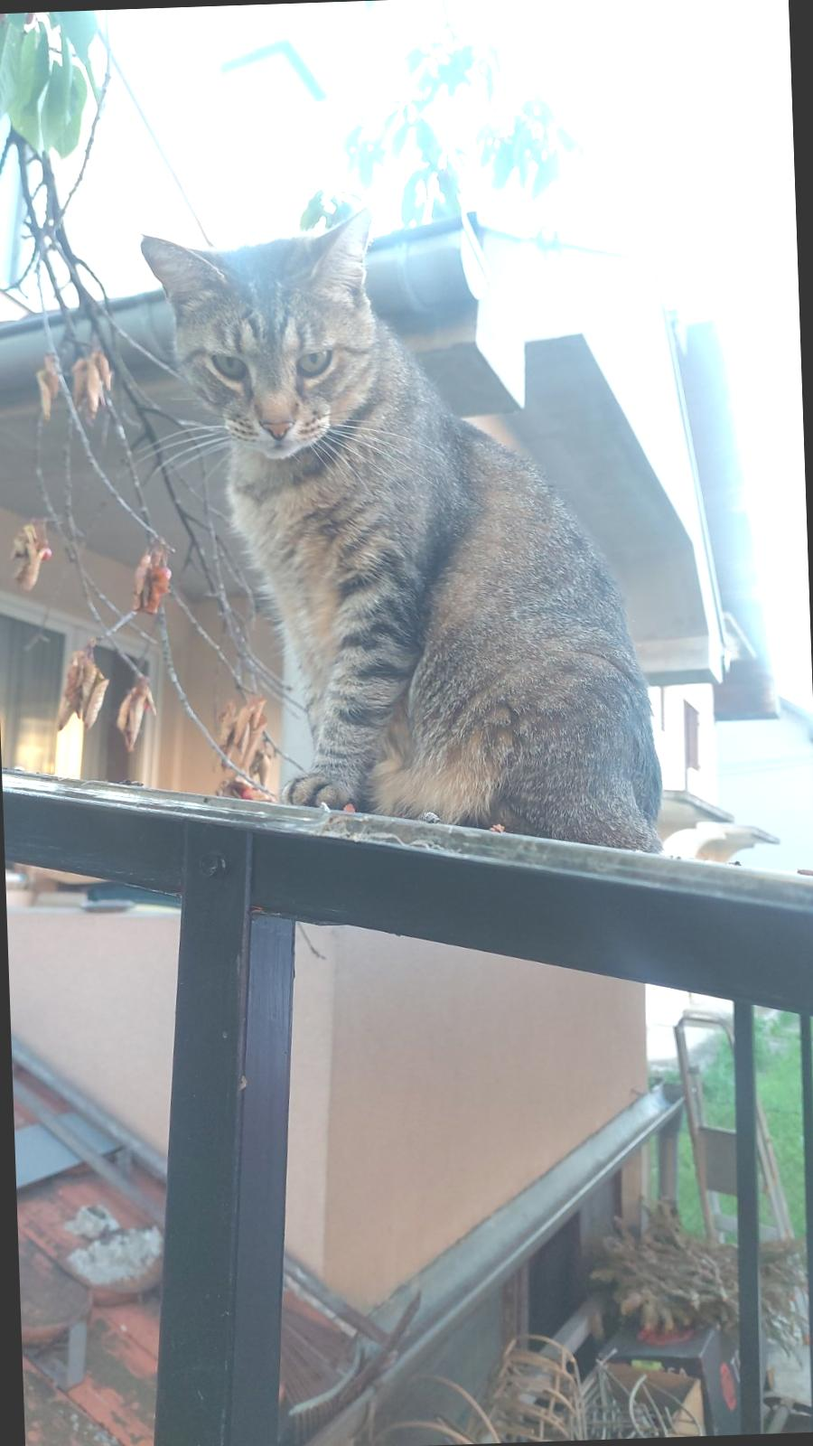macka: (133, 197, 668, 879)
